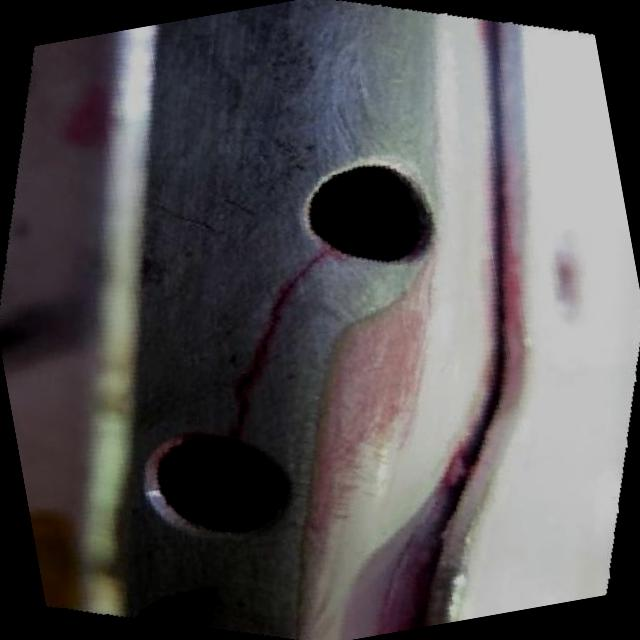crack: (252, 304, 286, 346), (276, 263, 310, 300), (240, 348, 270, 389), (234, 393, 258, 435), (304, 247, 334, 276)
